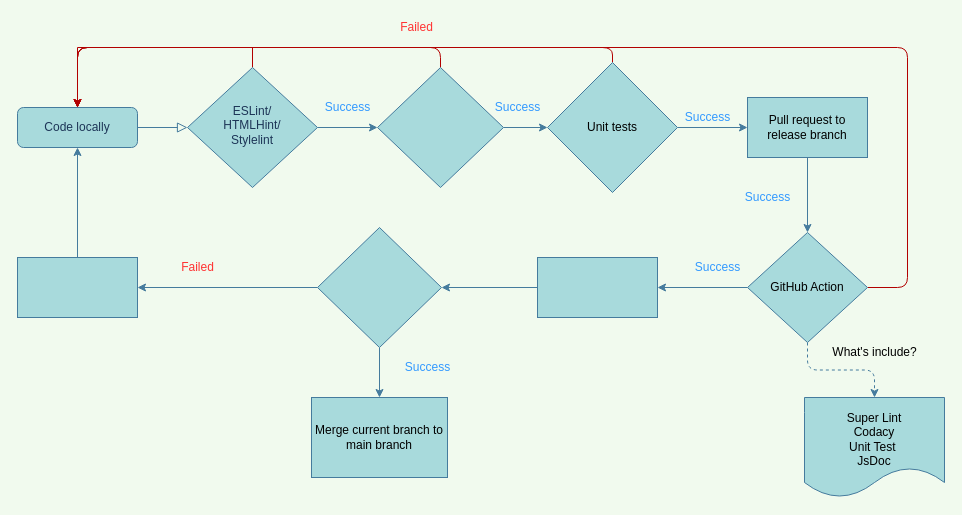
Some shapes in this 962 by 515 pixel diagram are drawn without their labels. Each missing label, with the centre of its shape:
Codeclimate: point 440,127
Create issue: point 77,287
human review: point 597,287
Manual testing: point 379,287
